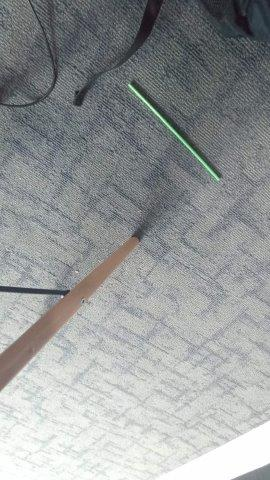sedotan: (128, 84, 220, 180)
